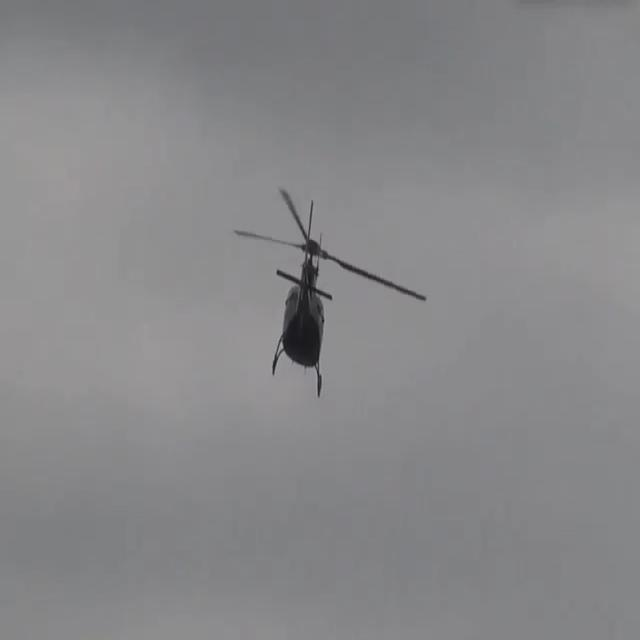Helicopter: (169, 118, 437, 451)
